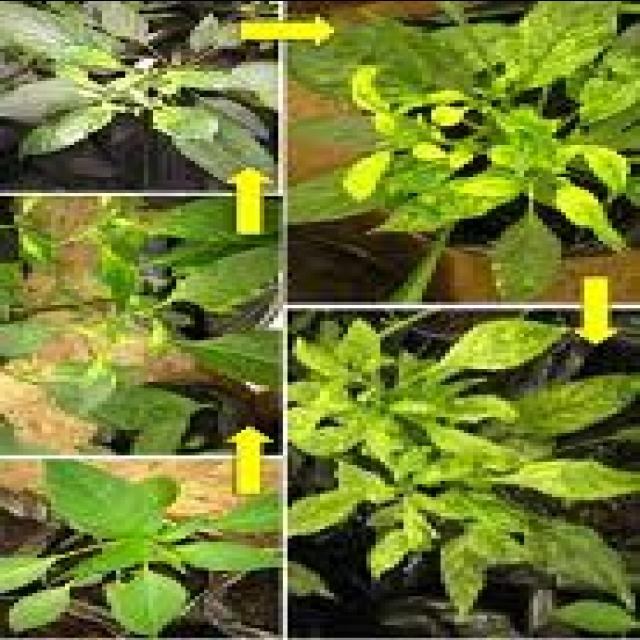virus_kuning: (287, 321, 640, 602), (548, 176, 630, 252), (564, 132, 640, 194), (334, 139, 398, 201)
